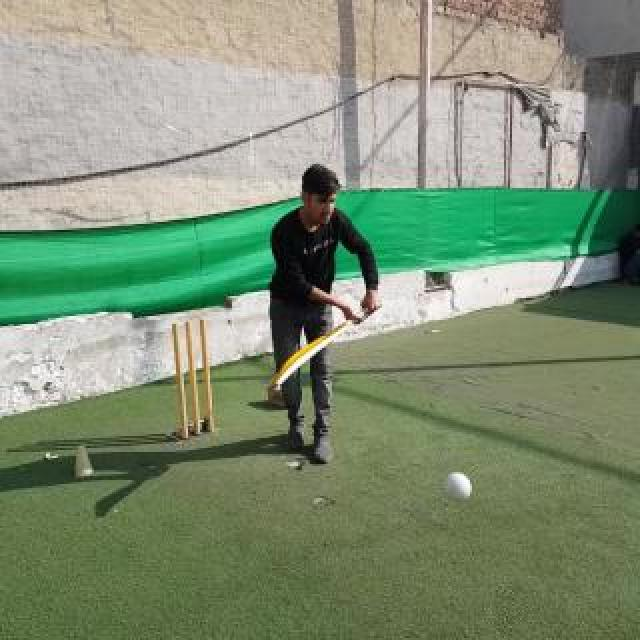ball: (444, 472, 472, 502)
bat: (266, 302, 382, 390)
